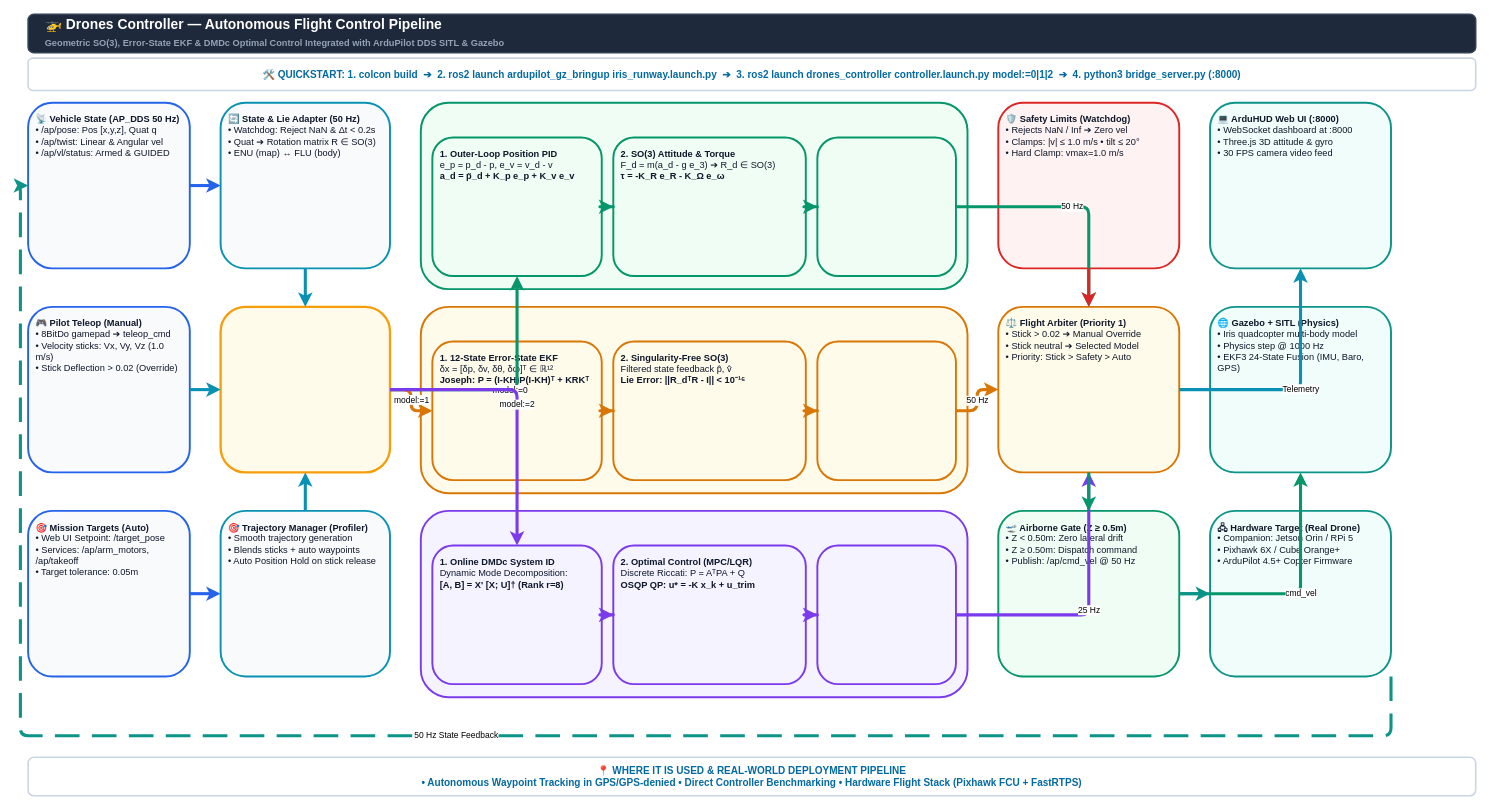
Some shapes in this 1489 by 809 pixel diagram are drawn without their labels. The box of each missing label's shape, as (x1, y1, x2, y2) in pixels:
Output /ap/cmd_vel @ 25 Hz: (816, 544, 957, 685)
Output /ap/cmd_vel @ 50 Hz: (816, 136, 957, 277)
Output /ap/v1/cmd_vel @ 50 Hz: (816, 340, 957, 481)
🔀 Select Controller model := 0 | 1 | 2 3-Way Symmetrical Branch: (219, 305, 391, 473)
🟠 MODEL 1: ERROR-STATE EKF + SO(3) (model1_so3_controller.py • 50 Hz): (419, 306, 968, 494)
🟢 MODEL 0: BASELINE CASCADED SO(3) (controller_node.py • 50 Hz): (419, 101, 968, 290)
🟣 MODEL 2: DMDc SYSTEM ID + MPC/LQR (model2_dmdc_controller.py • 25 Hz): (419, 510, 968, 698)
